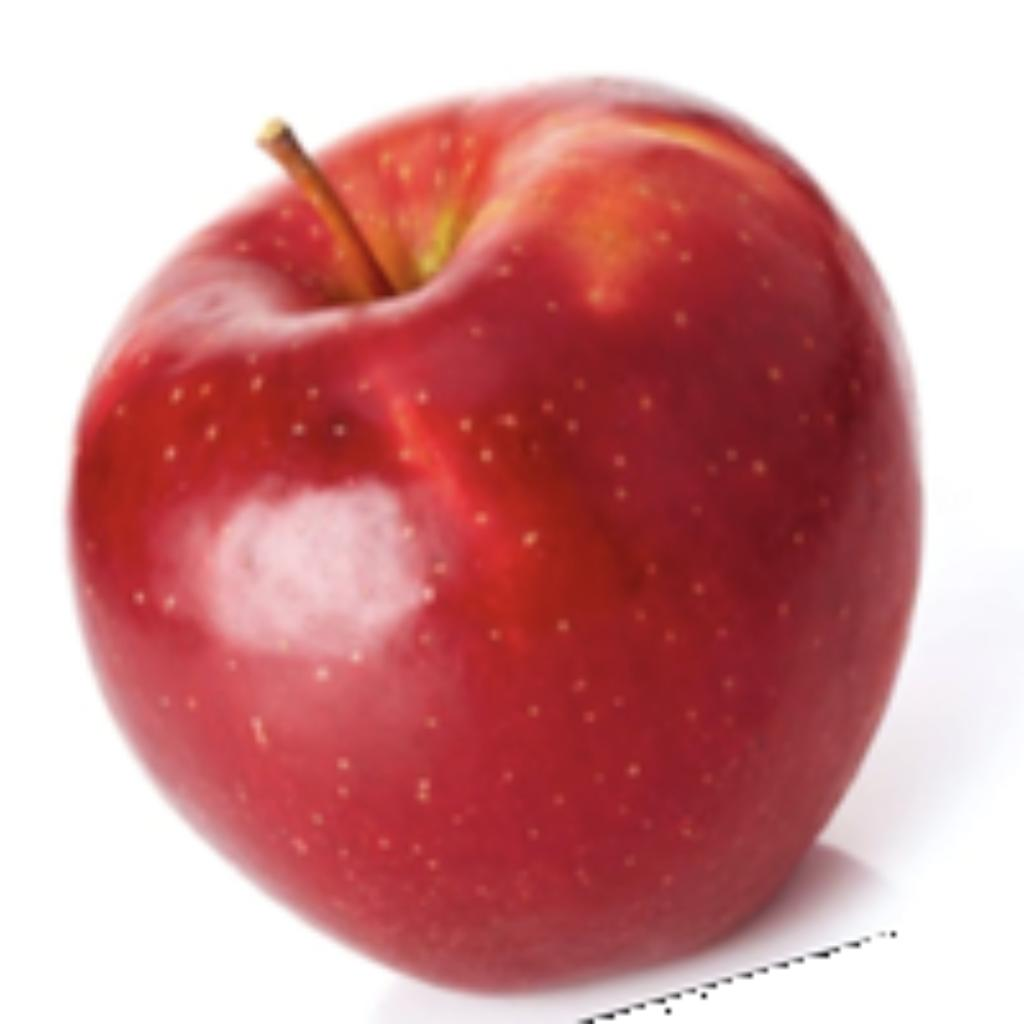apple: (56, 67, 932, 1019)
